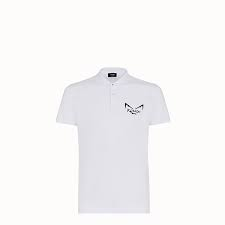C_polo shirt: (57, 64, 171, 213)
